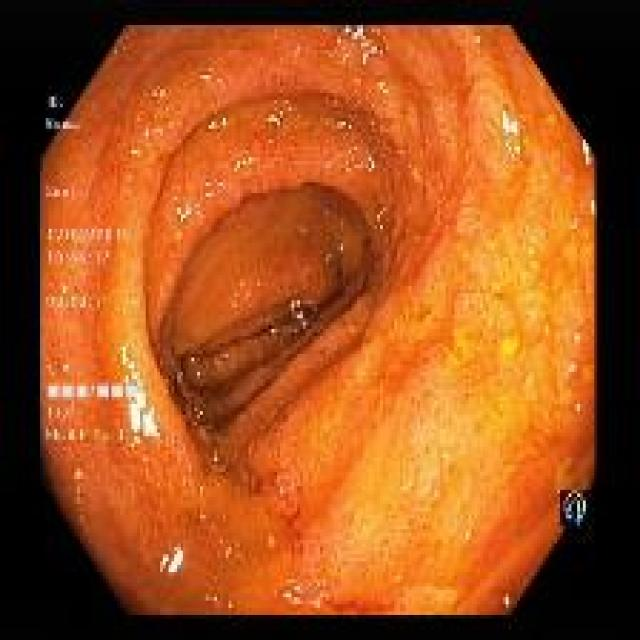ulcerative-colitis: (42, 27, 595, 615)
